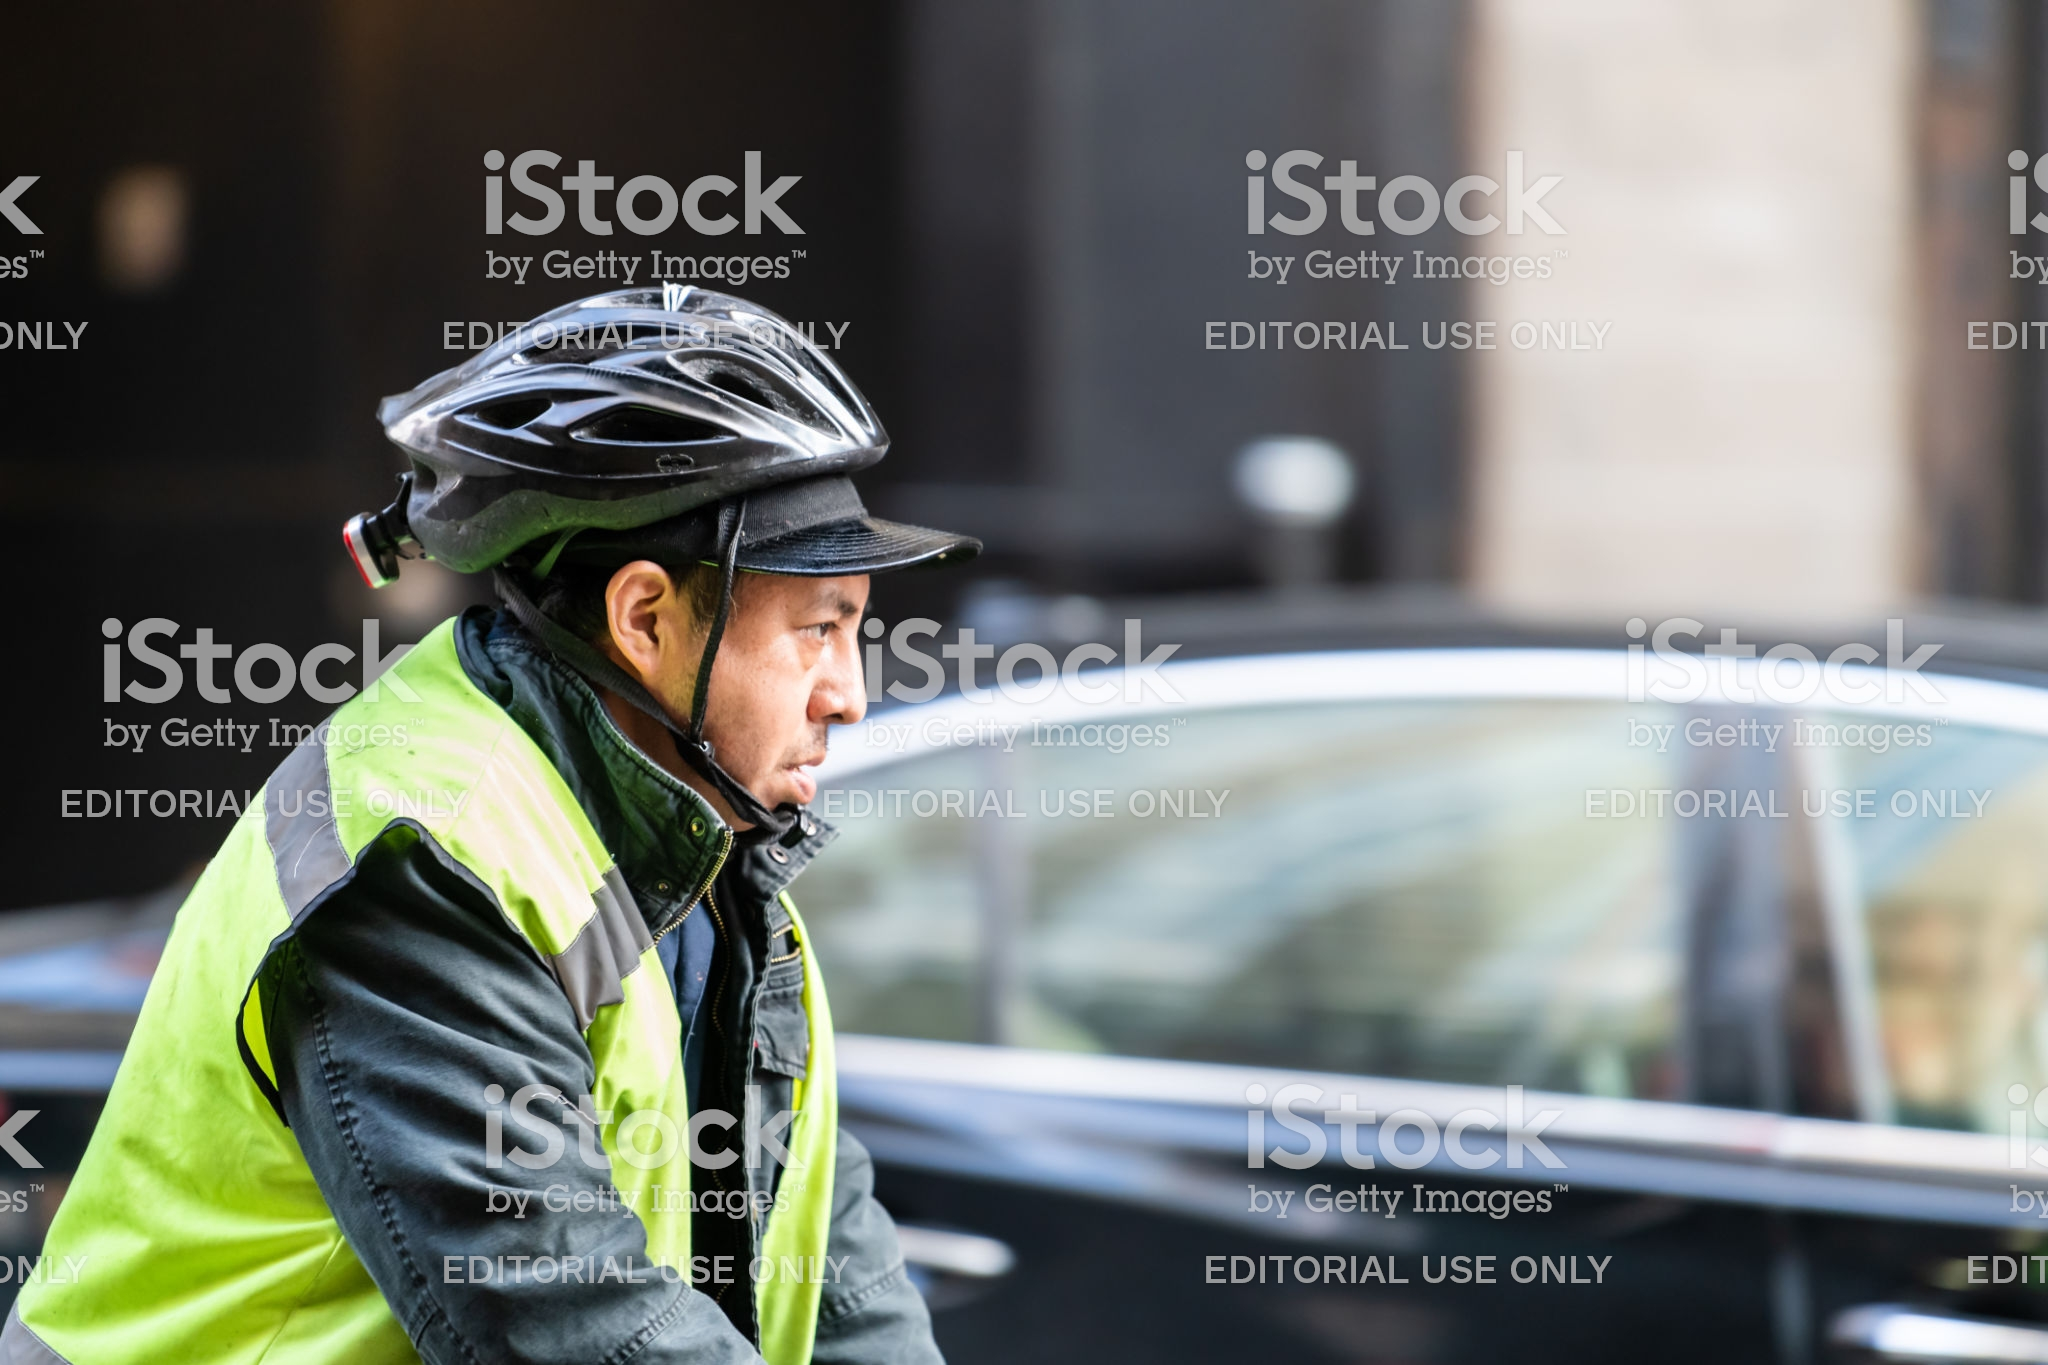helmet: (349, 302, 906, 538)
